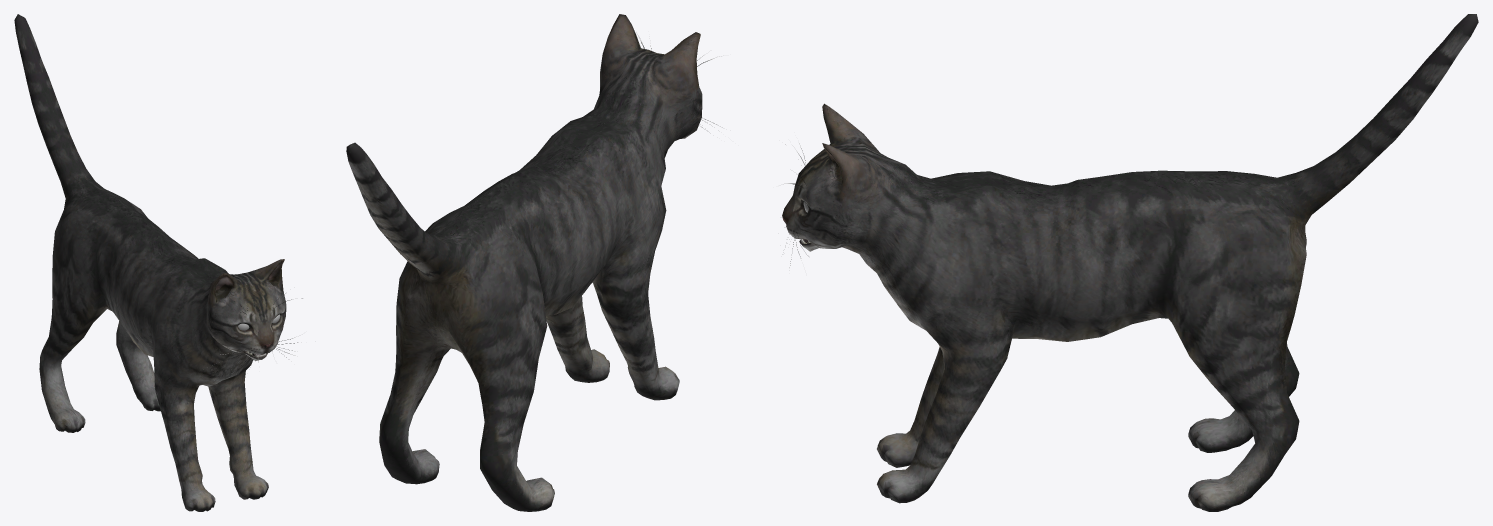
File: Cat.obj
3 renders of one model, left to right at view 1: azimuth 30°, elevation 25°; view 2: azimuth 150°, elevation 25°; view 3: azimuth 270°, elevation 25°, orthographic. The views are drawn at different scales.
Visible parts, largest first — view 1: Cat; view 2: Cat; view 3: Cat.
Boxes of the visible parts, bbox=[...] form: Cat: bbox=[14, 14, 315, 511]; Cat: bbox=[346, 14, 723, 511]; Cat: bbox=[779, 14, 1478, 511].
Size of the model in its own units: 0.3561 by 0.9798 by 1.35.
